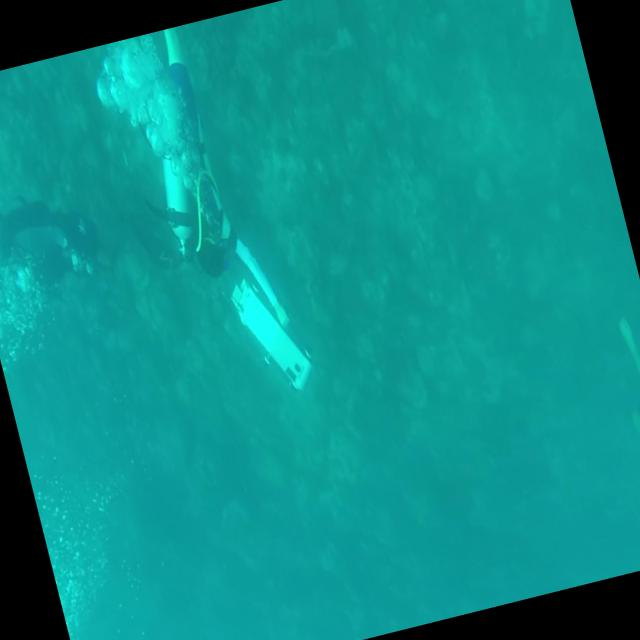human: (87, 15, 306, 384), (0, 180, 130, 377), (601, 288, 640, 563)
